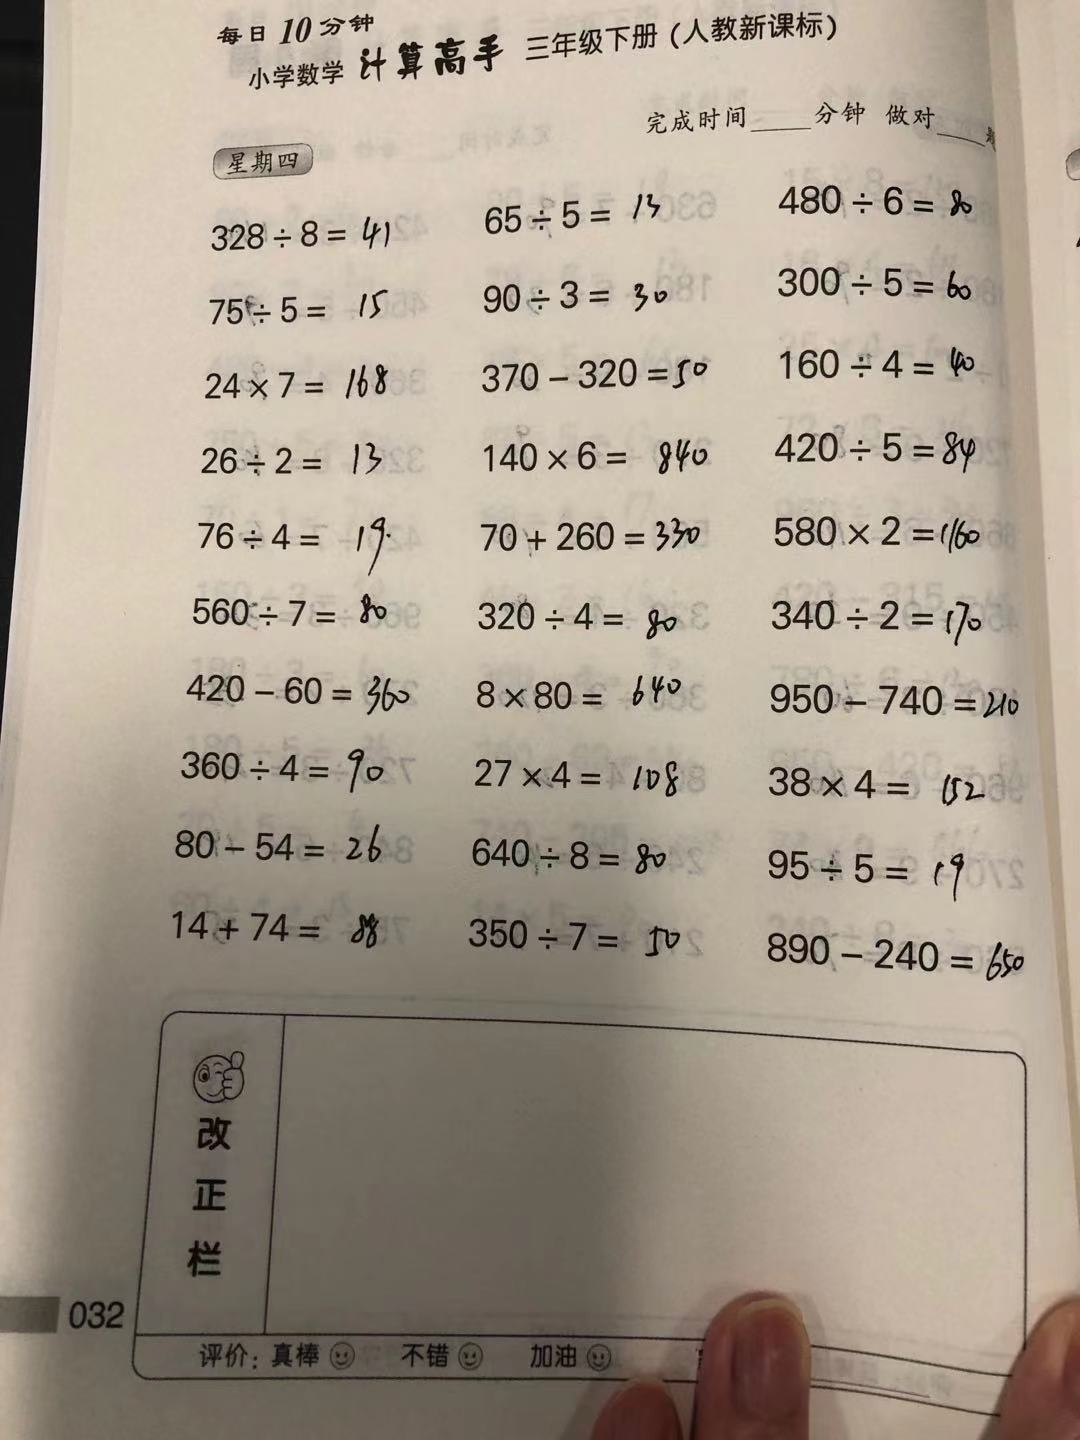equation: (756, 924, 1045, 990), (171, 507, 411, 579), (157, 895, 405, 962), (745, 841, 996, 907), (453, 587, 714, 647), (171, 662, 410, 727), (170, 813, 408, 878), (754, 759, 1009, 818), (748, 676, 1036, 727), (453, 662, 708, 719), (470, 345, 728, 399), (450, 513, 711, 565), (447, 752, 708, 804), (765, 259, 996, 316), (174, 738, 402, 796), (759, 510, 1011, 561), (456, 915, 694, 968), (476, 268, 697, 324), (461, 828, 691, 881), (776, 175, 993, 230), (761, 425, 1002, 475), (761, 593, 990, 645), (172, 359, 408, 407), (185, 213, 405, 264), (467, 435, 727, 478), (767, 342, 1011, 388), (193, 282, 402, 334), (185, 590, 400, 639), (182, 430, 387, 478), (473, 196, 685, 238)
